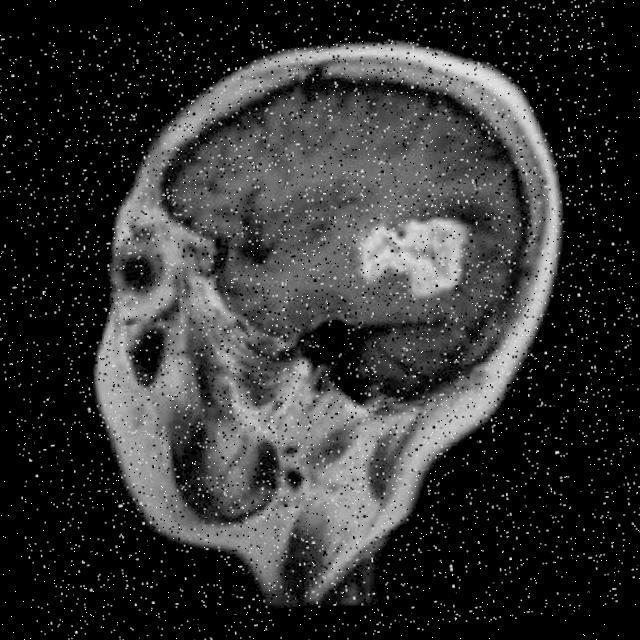CN: (274, 140, 612, 436)
